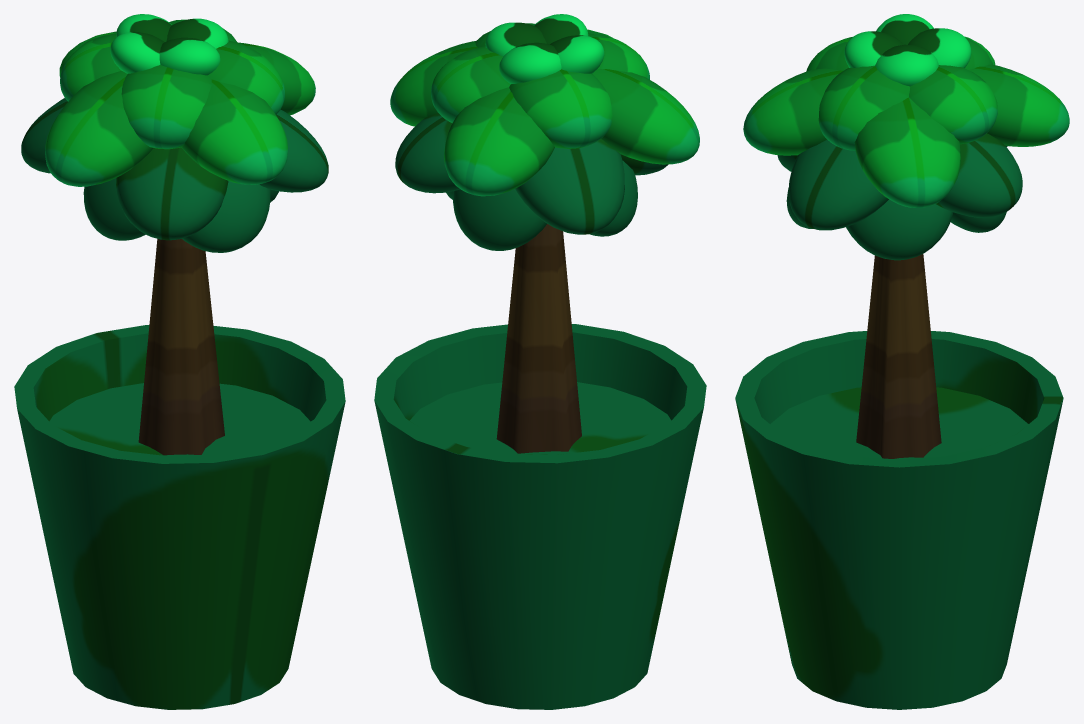
File: Plant.obj
3 renders of one model, left to right at view 1: azimuth 30°, elevation 25°; view 2: azimuth 150°, elevation 25°; view 3: azimuth 270°, elevation 25°, orthographic.
Parts seen in each view (by area): view 1: polySurface8; view 2: polySurface8; view 3: polySurface8.
Part boxes in pixels (x1=…): polySurface8: x1=14, y1=14, x2=345, y2=709; polySurface8: x1=374, y1=14, x2=706, y2=709; polySurface8: x1=735, y1=14, x2=1069, y2=709.
Size of the model in its own units: 1.29 by 2.72 by 1.32.
8 materials, 8 textured.
